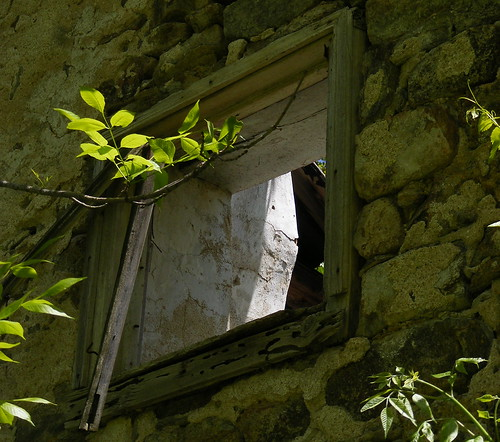window: (89, 37, 353, 379)
